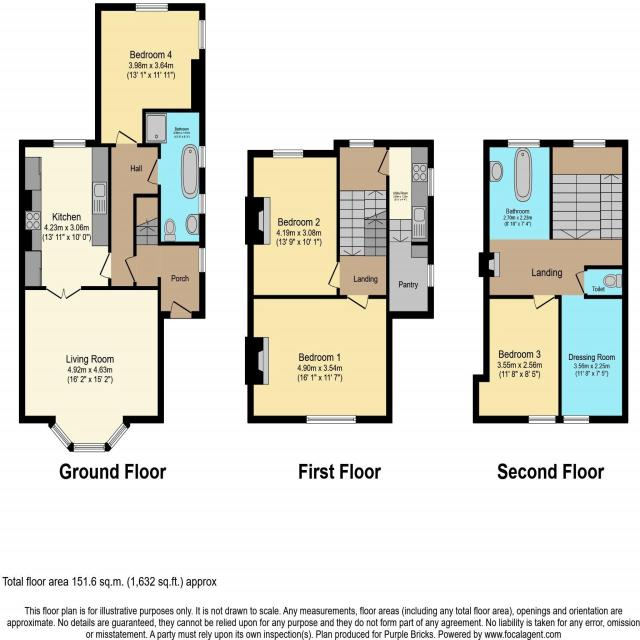DOOR: (325, 259, 342, 291), (345, 293, 372, 313), (144, 157, 162, 186), (169, 298, 192, 320), (115, 129, 139, 149), (122, 254, 138, 283), (98, 250, 112, 281), (376, 148, 391, 176), (533, 294, 556, 311), (574, 270, 588, 295)
DOUBLE DOOR: (43, 284, 84, 302)
ROOM: (17, 285, 165, 453), (244, 294, 394, 424), (18, 139, 112, 301), (244, 149, 341, 300), (472, 295, 563, 424), (375, 139, 435, 319), (557, 294, 629, 424)
WINDOW: (48, 420, 132, 454), (49, 420, 73, 450), (105, 421, 129, 450), (305, 413, 357, 426), (72, 441, 106, 454), (135, 2, 169, 13), (573, 138, 607, 149), (53, 139, 87, 149), (507, 139, 541, 149), (272, 149, 304, 159), (349, 138, 375, 149), (528, 414, 556, 424), (198, 19, 207, 50), (563, 414, 590, 424), (198, 246, 207, 274), (427, 167, 435, 197), (426, 264, 435, 288), (198, 145, 206, 168), (198, 193, 206, 215)
